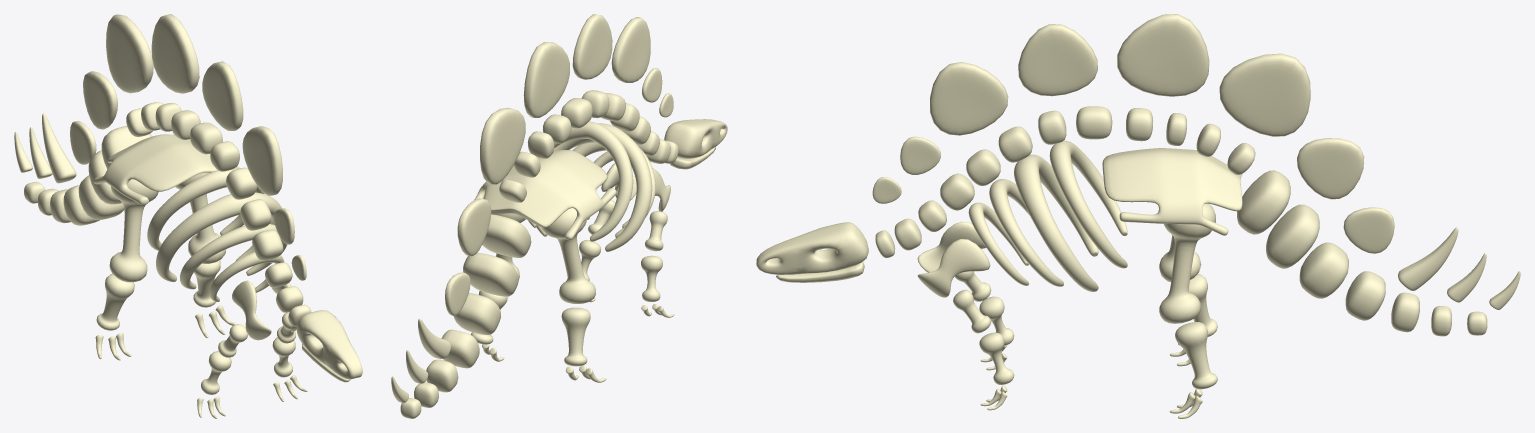
Rendered from stegosaurus.glb.
3 renders of one model, left to right at view 1: azimuth 30°, elevation 25°; view 2: azimuth 150°, elevation 25°; view 3: azimuth 270°, elevation 25°, orthographic. The views are drawn at different scales.
Visible parts, largest first — view 1: Cube.040, back leg up, Cube.002, Cube, head, Cylinder.005, Cube.035, Cube.036, Cylinder.004, back leg down, Cylinder.006, Cube.033 (+27 smaller); view 2: Cube.040, Cube.002, Cube, back leg up, Cylinder.005, Cylinder.004, Cube.035, Cube.036, head, Cube.015, back leg down, Cube.014 (+26 smaller); view 3: Cube.040, Cube.002, Cube, Cube.035, Cube.036, head, Cylinder.005, Cylinder.004, back leg up, Cube.033, Cube.039, Cube.015 (+21 smaller).
Part boxes in pixels (x1,y1,x2,y2): Cube.040: (93, 134, 239, 204); back leg up: (109, 172, 226, 282); Cube.002: (106, 14, 153, 93); Cube: (151, 14, 199, 93); head: (296, 310, 362, 379); Cylinder.005: (156, 192, 281, 281); Cube.035: (202, 61, 243, 130); Cube.036: (242, 126, 282, 195); Cylinder.004: (147, 168, 264, 250); back leg down: (96, 260, 220, 330); Cylinder.006: (180, 224, 286, 289); Cube.033: (83, 71, 117, 129); Cube.040: (474, 150, 616, 240); Cube.002: (480, 107, 525, 184); Cube: (523, 42, 569, 117); back leg up: (491, 208, 595, 303); Cylinder.005: (536, 123, 652, 251); Cylinder.004: (528, 121, 633, 241); Cube.035: (572, 14, 612, 79); Cube.036: (611, 17, 650, 82); head: (664, 119, 727, 158); Cube.015: (463, 252, 518, 296); back leg down: (471, 291, 590, 366); Cube.014: (482, 214, 531, 257); Cube.040: (1102, 148, 1242, 235); Cube.002: (1219, 53, 1310, 136); Cube: (1117, 14, 1209, 96); Cube.035: (1018, 24, 1097, 96); Cube.036: (930, 62, 1008, 135); head: (756, 222, 868, 274); Cylinder.005: (1014, 154, 1098, 291); Cylinder.004: (1049, 140, 1127, 268); back leg up: (1159, 203, 1215, 323); Cube.033: (1297, 138, 1364, 199); Cube.039: (917, 221, 990, 297); Cube.015: (1266, 204, 1319, 268).
Bounding box in the file's own units: 0.7315 × 1.7 × 3.16.
Materials: 1 (1 with a texture image).
